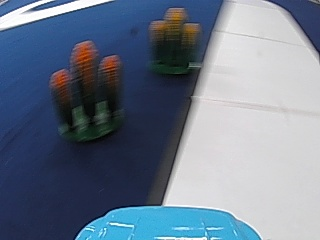corn: (49, 37, 125, 144), (150, 2, 199, 74)
